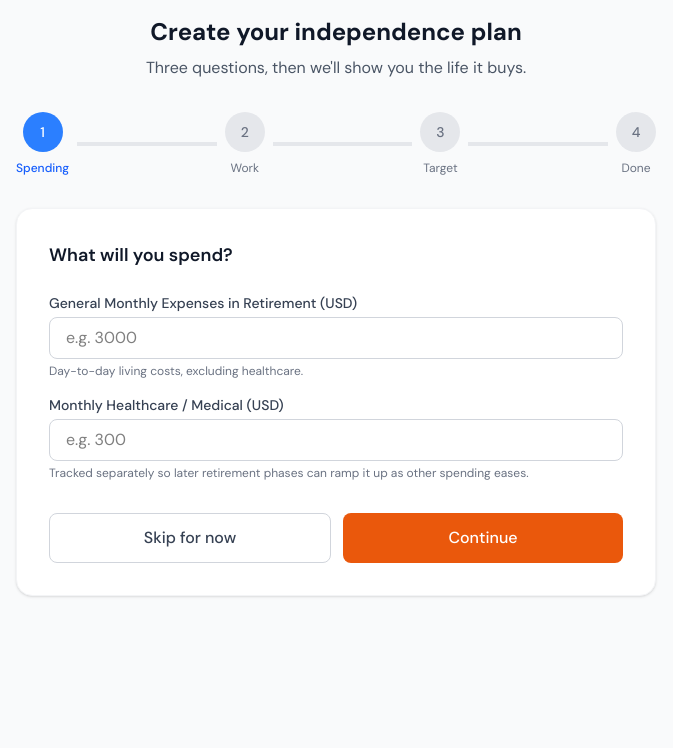
Test case: /independence/setup — guided plan wizard › walks Spending → Work → Target with a step rail
The width and height of the screenshot is (673, 748).
Expected: the heading "Create your independence plan" is shown, [150, 16, 522, 47]
Expected: the text "Spending" is shown, [16, 160, 69, 176]
Click the button "Continue" at (483, 538), box [343, 513, 623, 563]
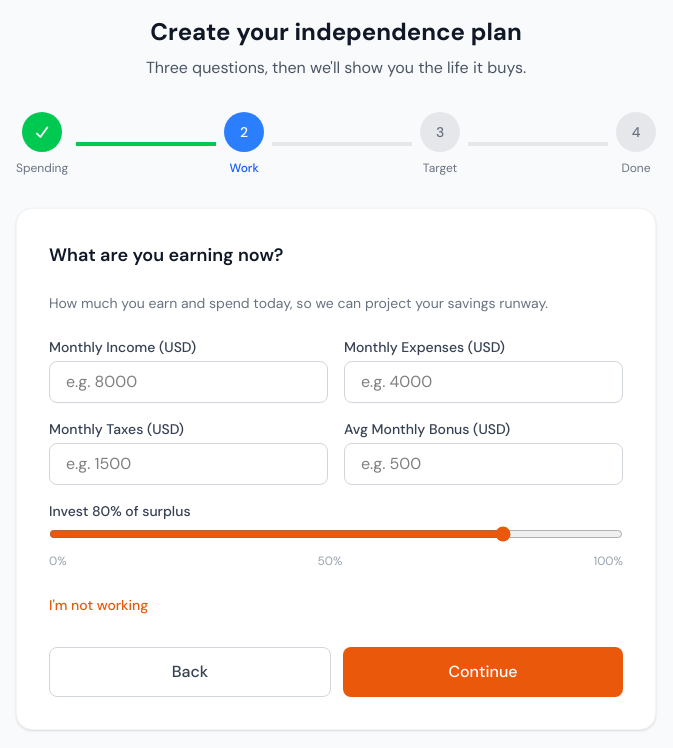
Expected: the number field labelled "Monthly Income (USD)" is shown, [49, 361, 328, 403]
Click the button "Continue" at (483, 672), box [343, 647, 623, 697]
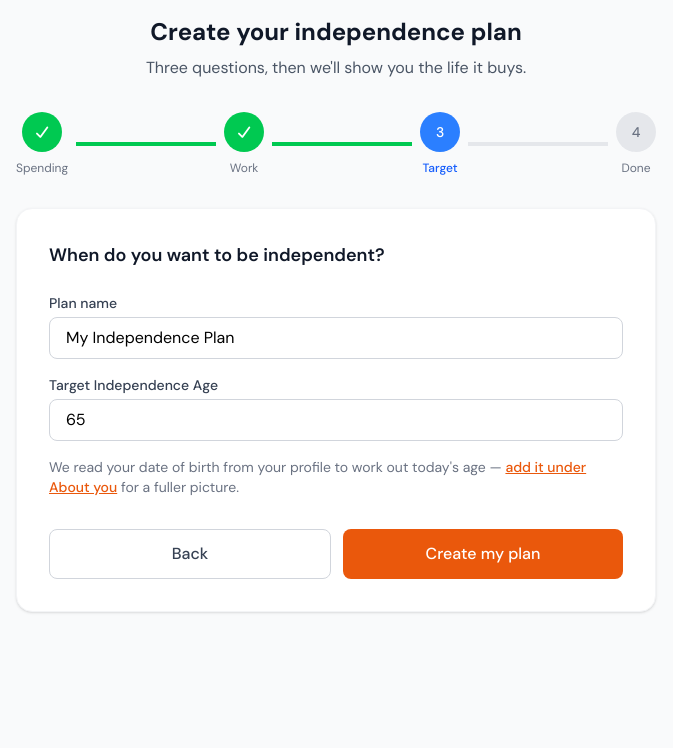
Expected: the number field labelled "Target Independence Age" is shown, [49, 399, 623, 441]
Expected: the field labelled "Plan name" holds "My Independence Plan", [49, 317, 623, 359]
